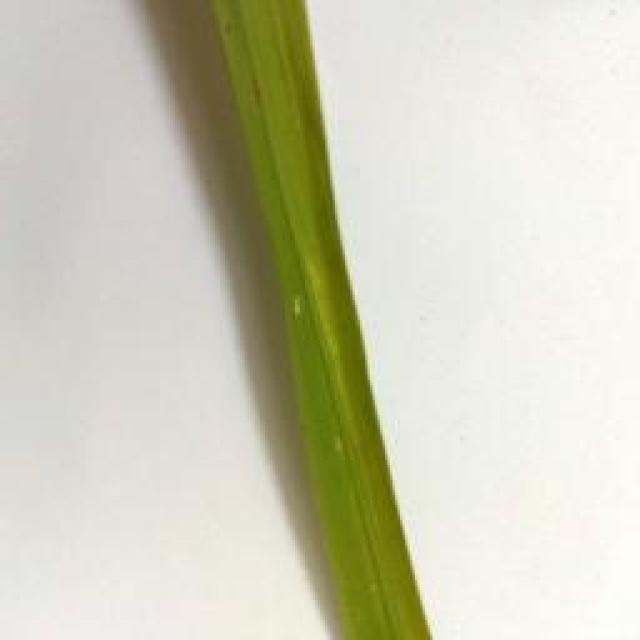Brown_Spot: (243, 81, 282, 113), (224, 24, 242, 43)
